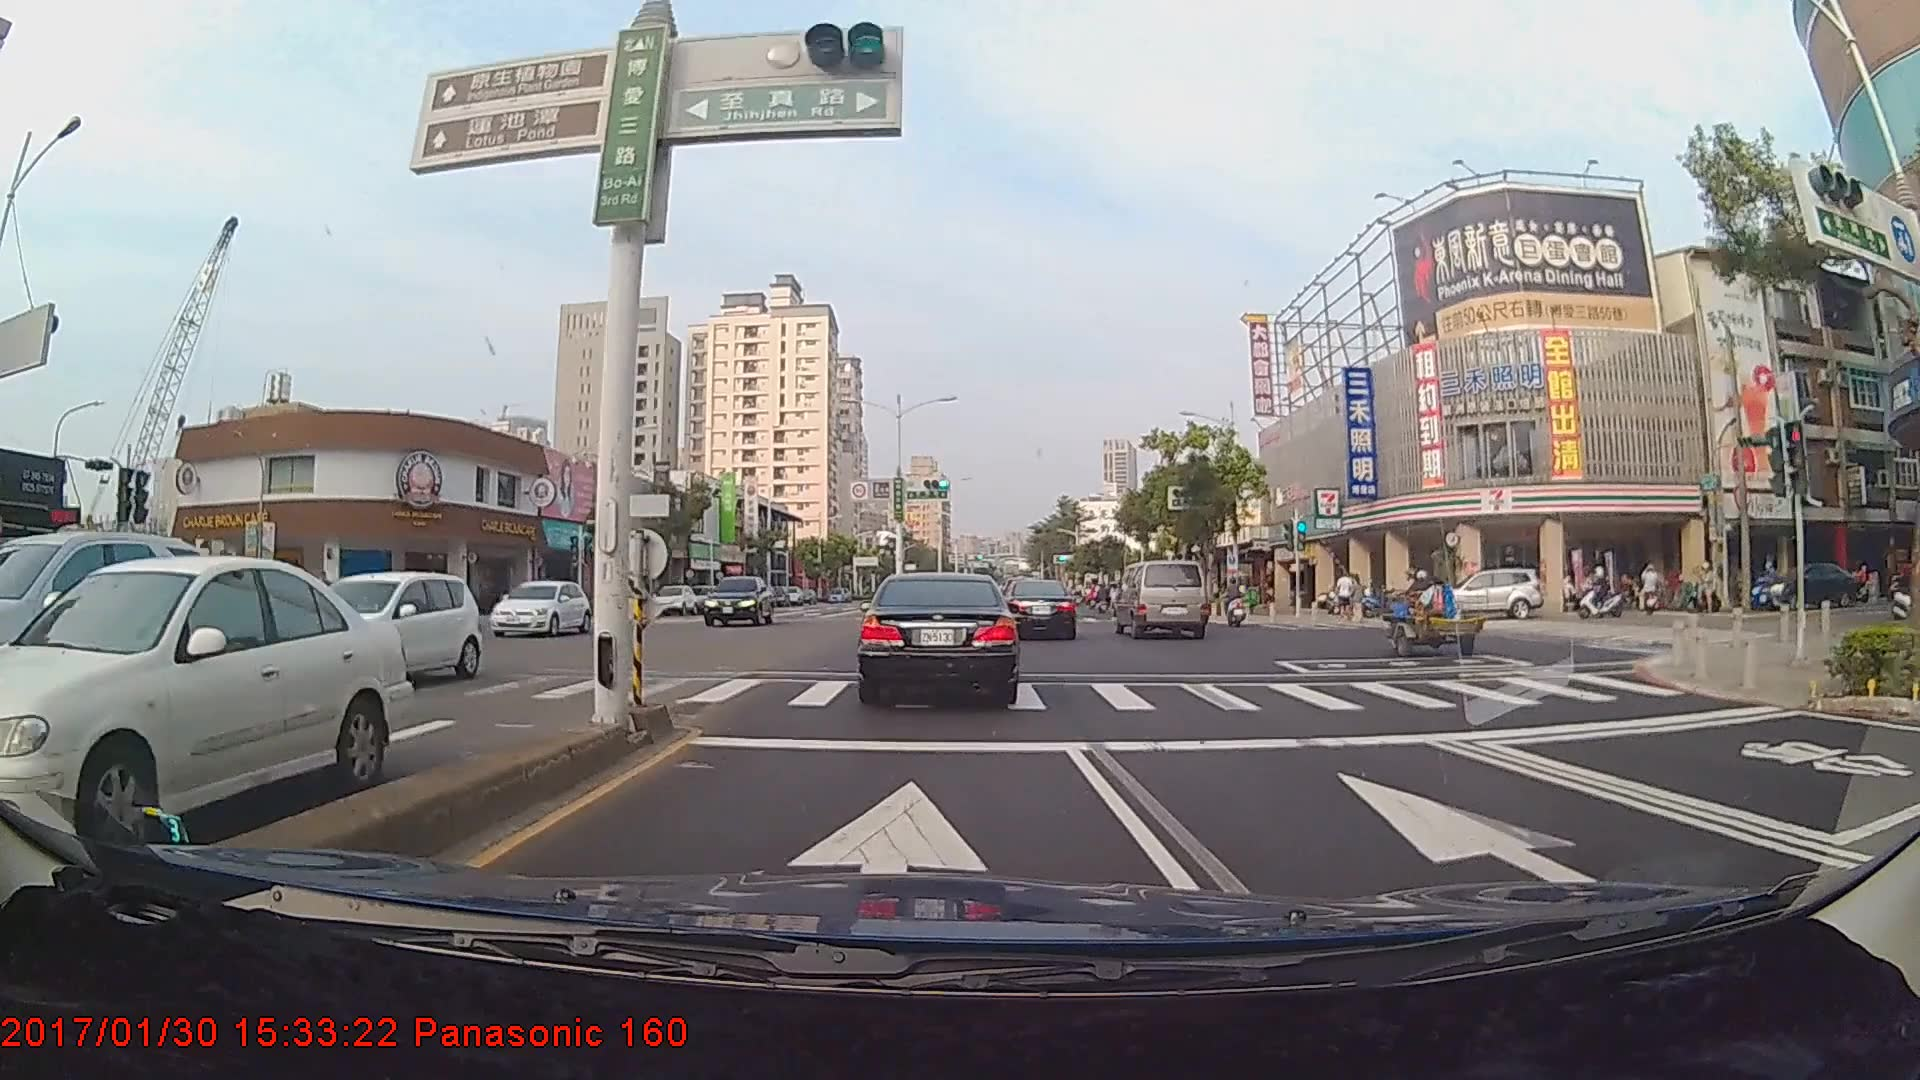pedestrian: (1336, 569, 1356, 620)
rider: (1573, 563, 1635, 626), (1215, 577, 1253, 630)
vehicle: (0, 551, 400, 852), (0, 529, 210, 752), (268, 566, 477, 691), (858, 567, 1018, 704), (1117, 559, 1208, 640), (1415, 571, 1542, 623), (483, 576, 587, 637), (1002, 578, 1078, 640), (702, 575, 774, 627), (653, 583, 697, 615)
